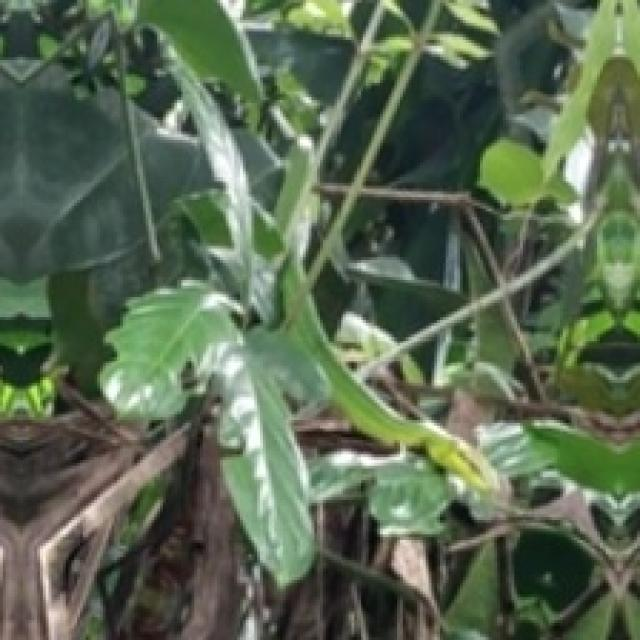red-tailed green ratsnake: (245, 256, 498, 494)
